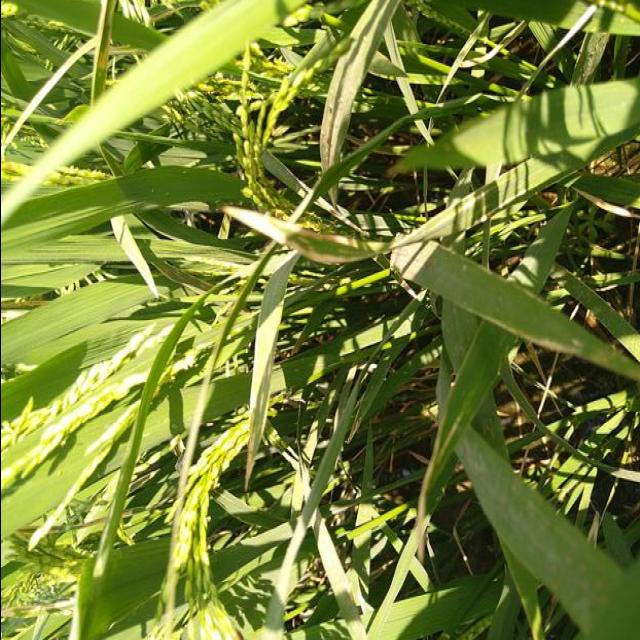Leaf Blight: (224, 174, 504, 264), (499, 294, 640, 382), (415, 411, 464, 563), (90, 0, 116, 107), (157, 261, 213, 295)
